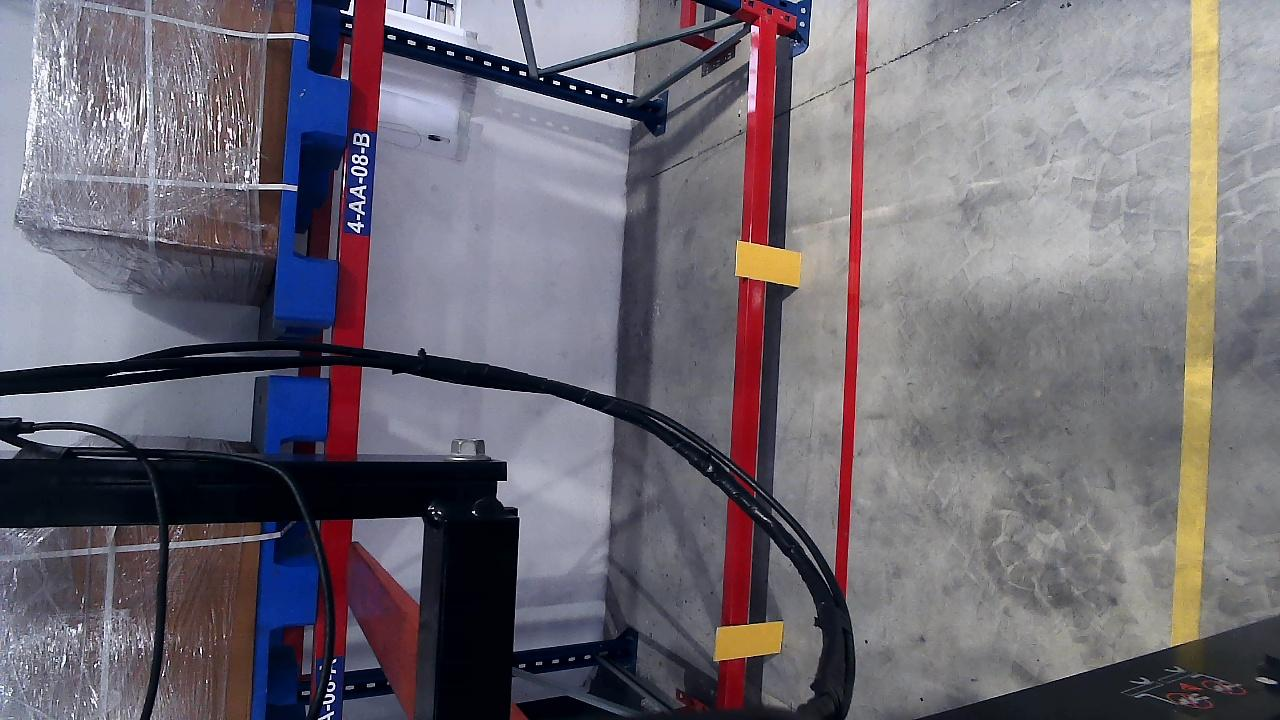h_rack: (724, 10, 777, 622), (326, 0, 390, 456)
orange_strip: (735, 241, 801, 287), (715, 621, 784, 661)
red_line: (833, 7, 868, 624)
small_pallet: (246, 438, 358, 719), (267, 1, 362, 320)
yellow_line: (1172, 52, 1221, 654)
